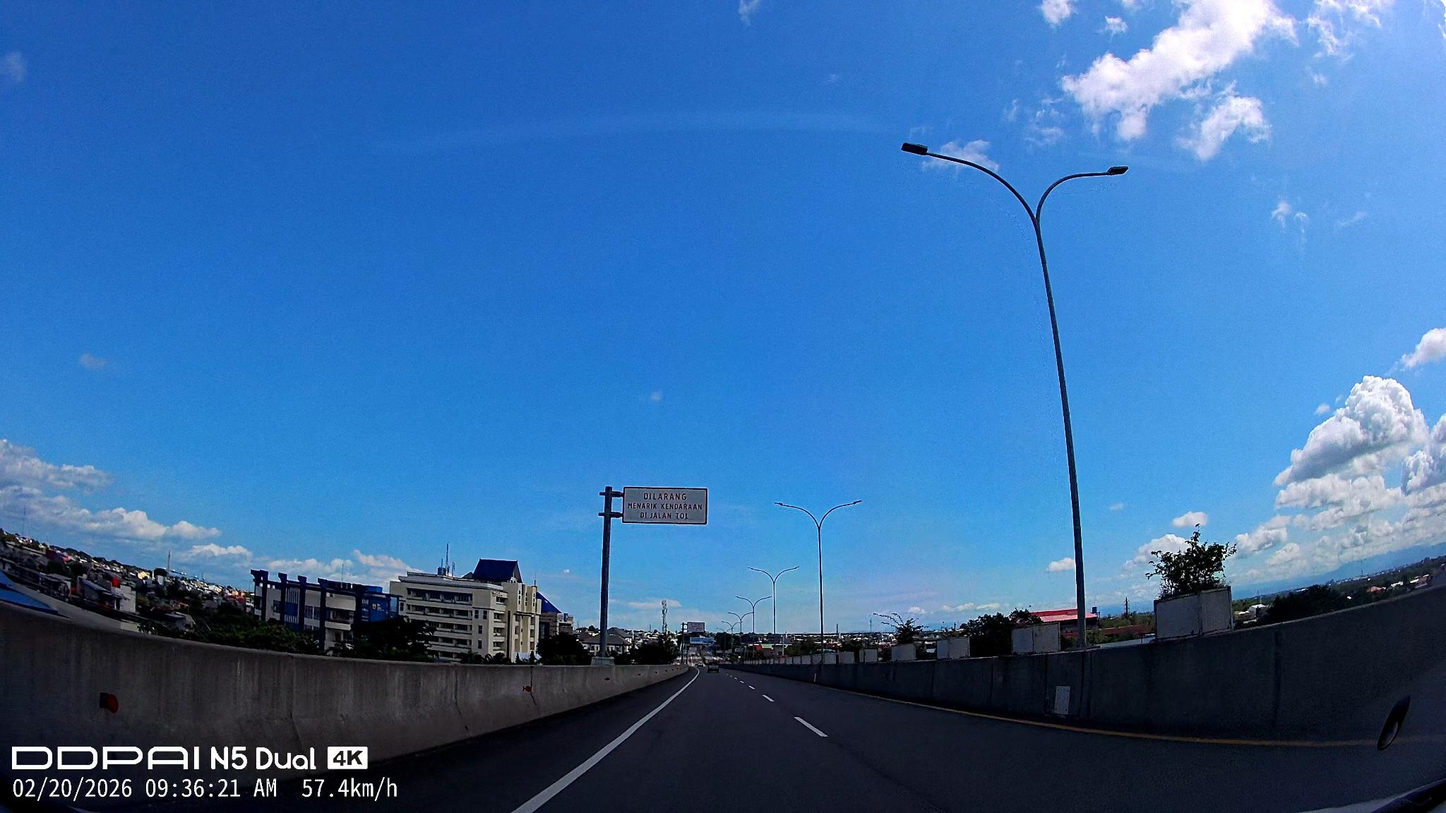rambu_teks: (622, 486, 709, 525)
